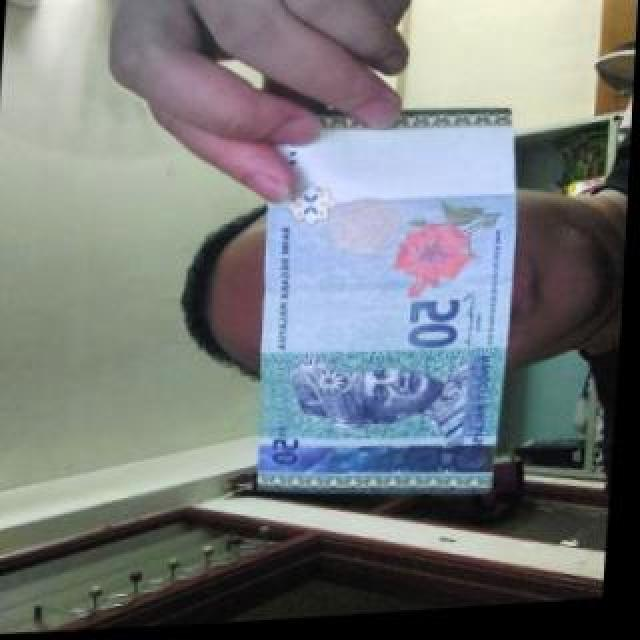50 Ringgit: (242, 78, 544, 519)
